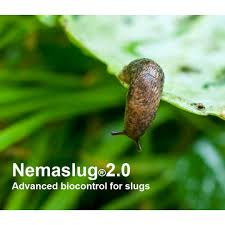slug: (119, 61, 159, 148)
